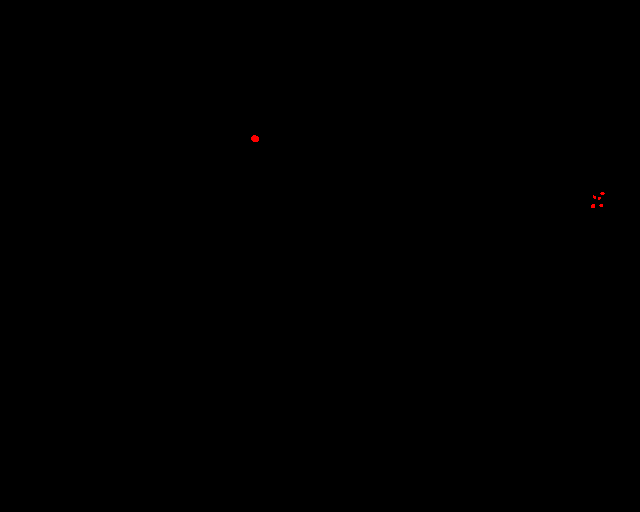Target: (251, 135, 259, 142), (591, 204, 595, 208), (600, 192, 605, 195), (593, 195, 596, 199), (599, 204, 603, 207), (598, 197, 601, 200)
